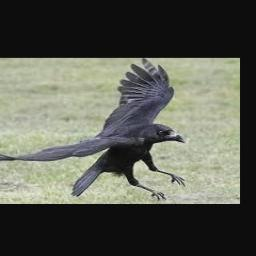Crow: (0, 58, 186, 200)
